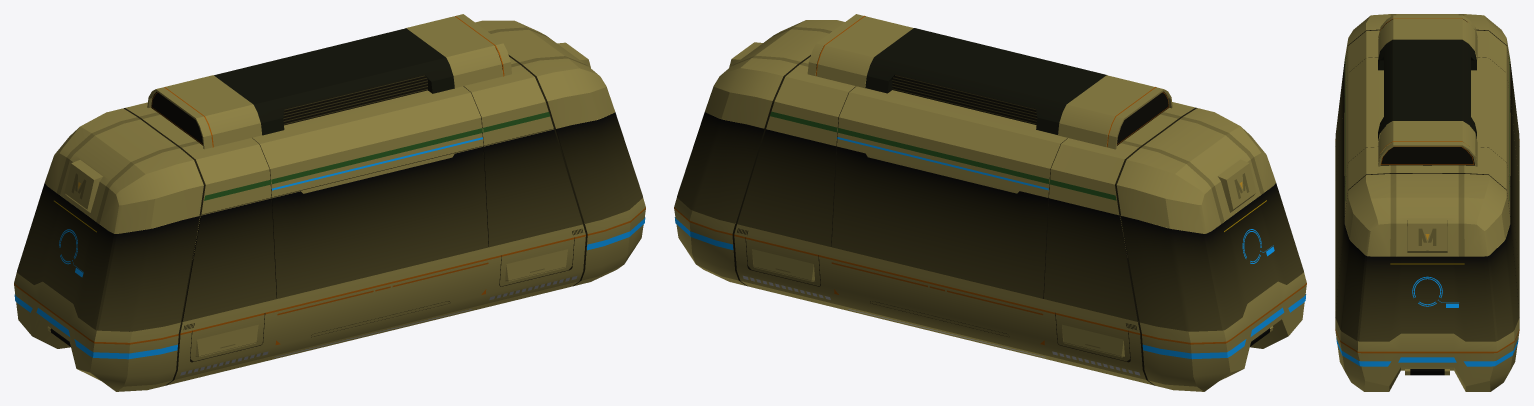
Rendered from W_O_Monorail_001_L3.fbx.
The picture shows the model from 3 angles, left to right: view 1: azimuth 30°, elevation 25°; view 2: azimuth 150°, elevation 25°; view 3: azimuth 270°, elevation 25°; orthographic projection. The views are drawn at different scales.
Visible parts, largest first — view 1: W_O_Monorail_001_L3; view 2: W_O_Monorail_001_L3; view 3: W_O_Monorail_001_L3.
Part boxes in pixels (x1,y1,x2,y2): W_O_Monorail_001_L3: (14, 14, 645, 391); W_O_Monorail_001_L3: (674, 14, 1306, 391); W_O_Monorail_001_L3: (1335, 14, 1519, 391).
Size of the model in its own units: 12.01 by 5 by 4.01.
